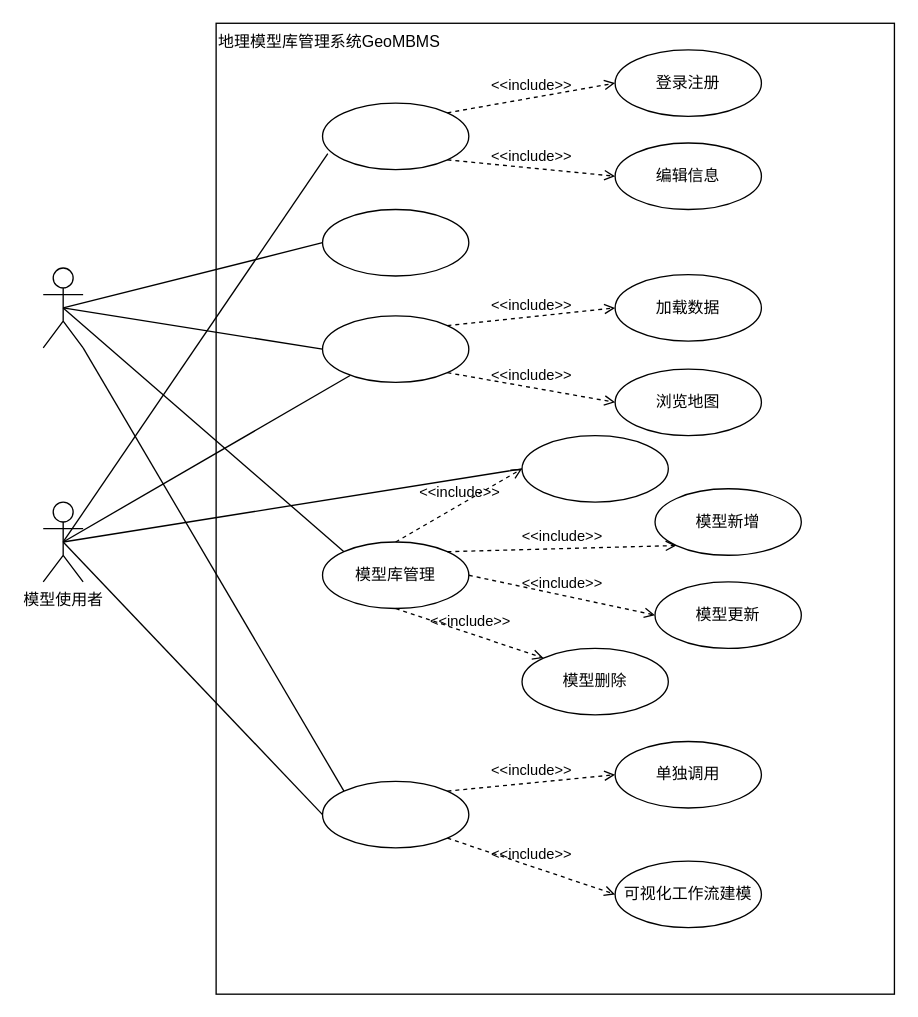
Image size: 918x1017. Some labels were removed from this diagram. The shapes that lost their labels are listed below. From the top down, each one's centre as x and y in pixels, then its label:
At point (395, 136): "用户系统".
At point (395, 242): "用户管理".
At point (62, 307): "系统管理员".
At point (395, 348): "地图服务".
At point (594, 468): "模型查询".
At point (395, 814): "模型应用".
